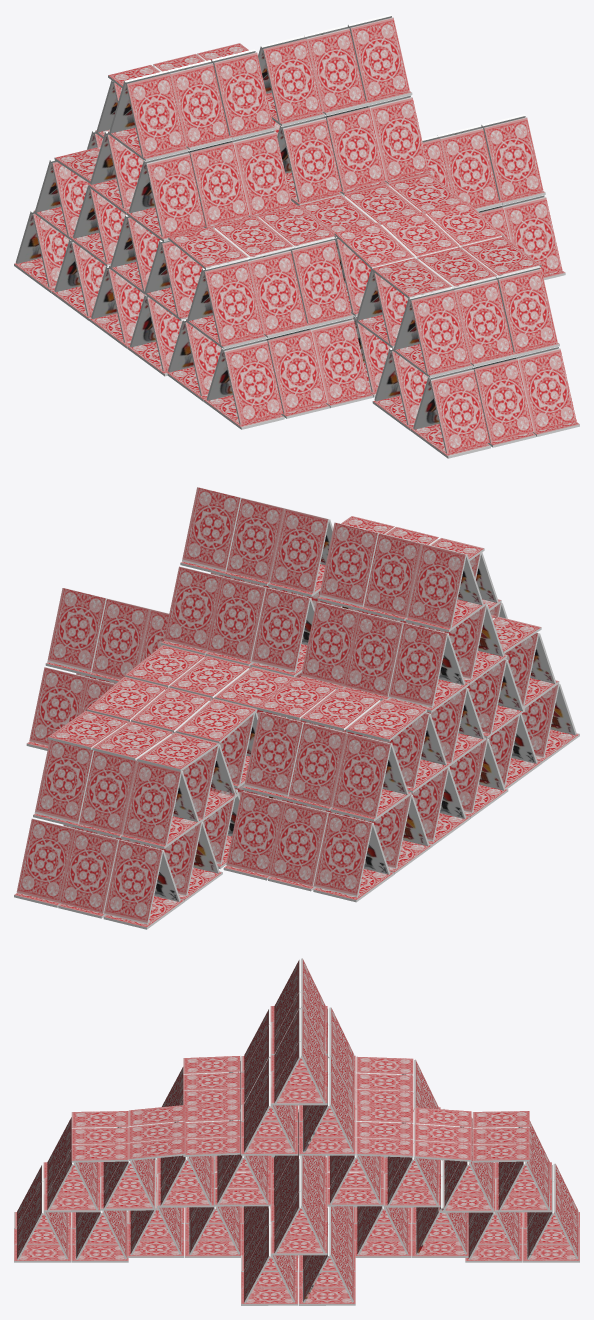
The model's file is casino_de_cartas.glb.
The picture shows the model from 3 angles, top to bottom: view 1: azimuth 30°, elevation 25°; view 2: azimuth 150°, elevation 25°; view 3: azimuth 270°, elevation 25°; orthographic projection. The views are drawn at different scales.
Visible parts, largest first — view 1: Cube; view 2: Cube; view 3: Cube.
Boxes of the visible parts, <box> form: Cube: <box>14,14,579,458</box>; Cube: <box>14,487,579,929</box>; Cube: <box>14,958,579,1305</box>.
Size of the model in its own units: 1062 by 688 by 1700.
1 material, 1 textured.
